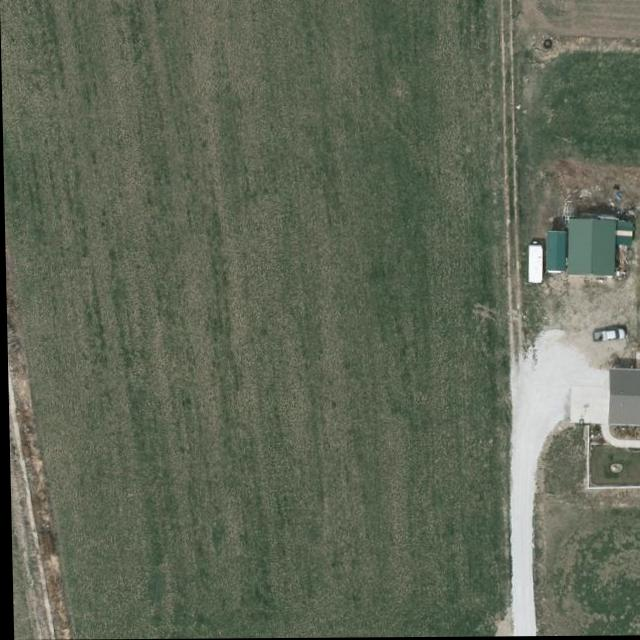vehicle: (590, 330, 624, 344)
